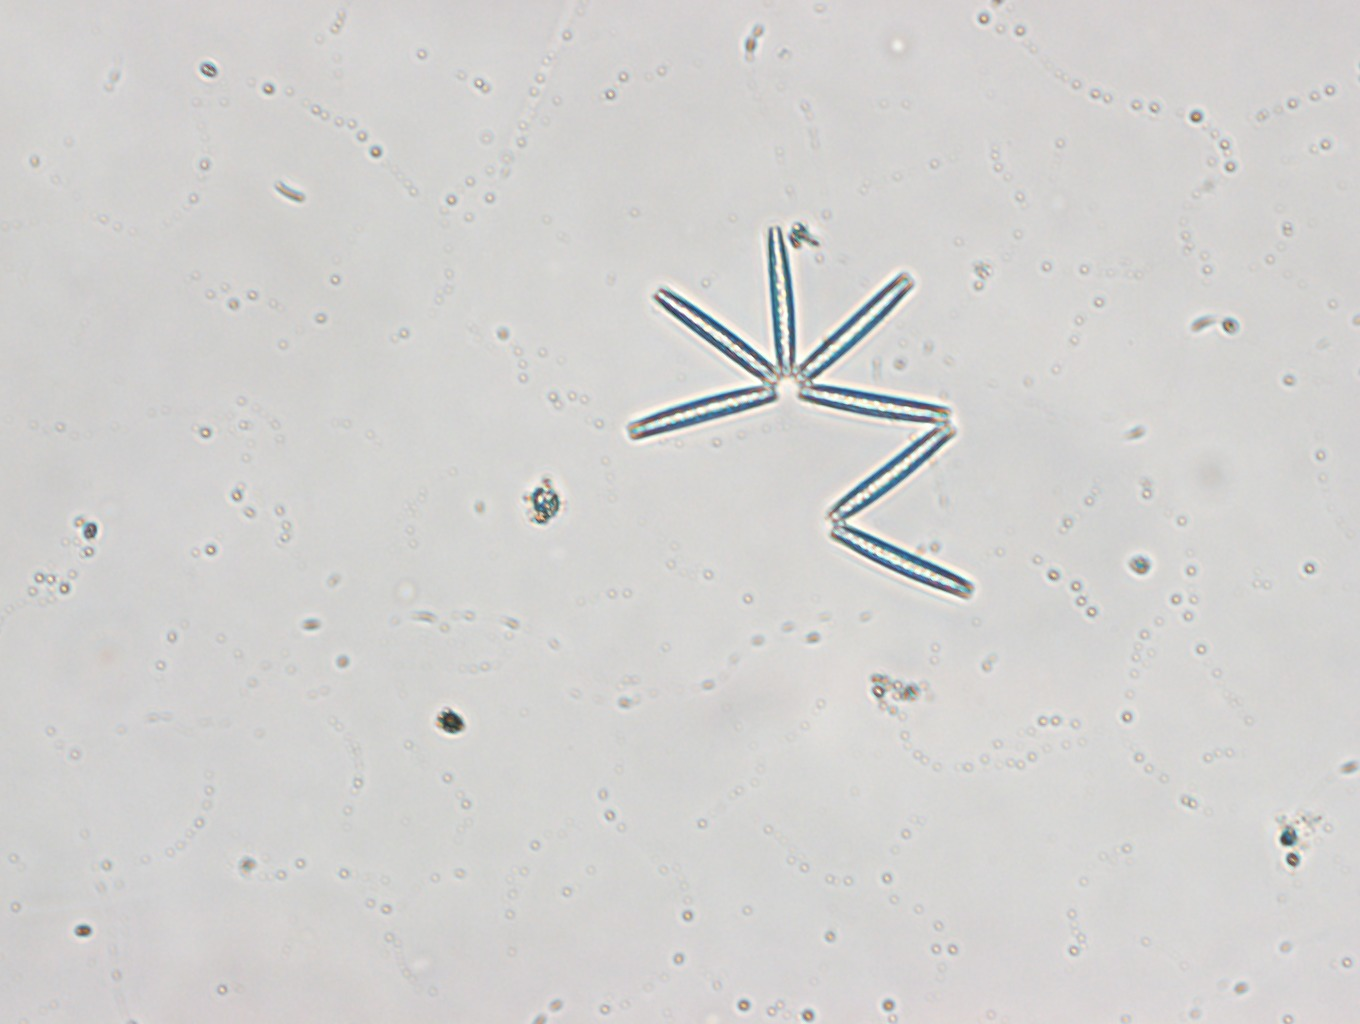thalassionema nitzschioides: (625, 224, 974, 602)
